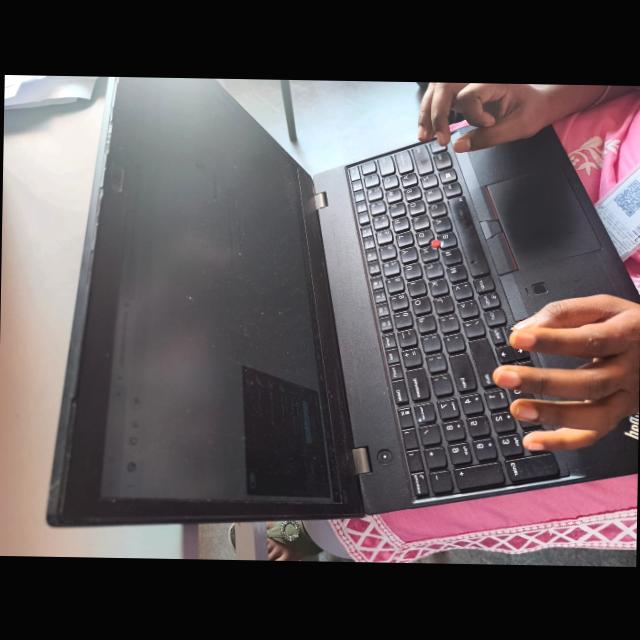laptop: (30, 77, 626, 546)
